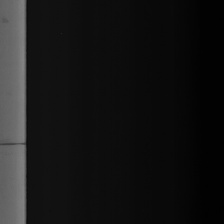crease: (1, 135, 30, 154)
